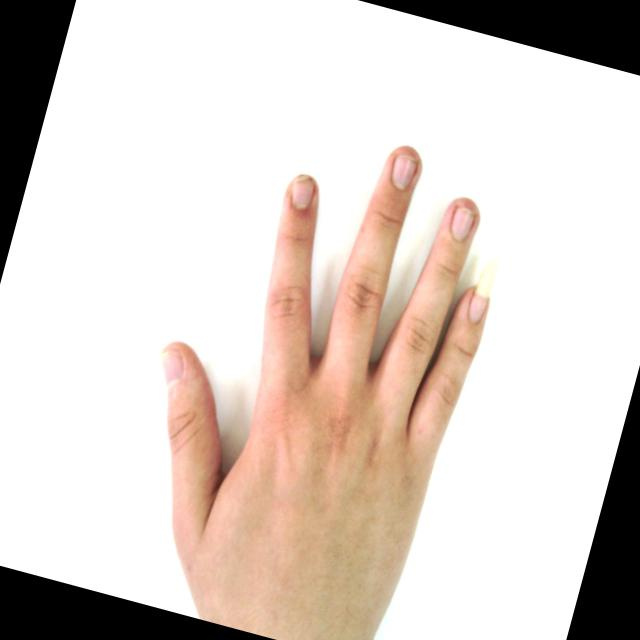Nail: (390, 152, 415, 188), (450, 205, 473, 239), (466, 288, 488, 322), (290, 174, 312, 208), (160, 349, 181, 384)
